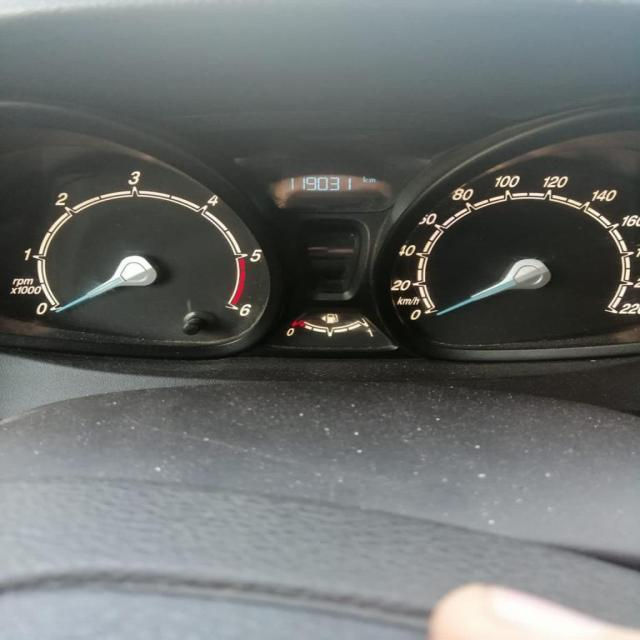odometer: (278, 160, 384, 206)
